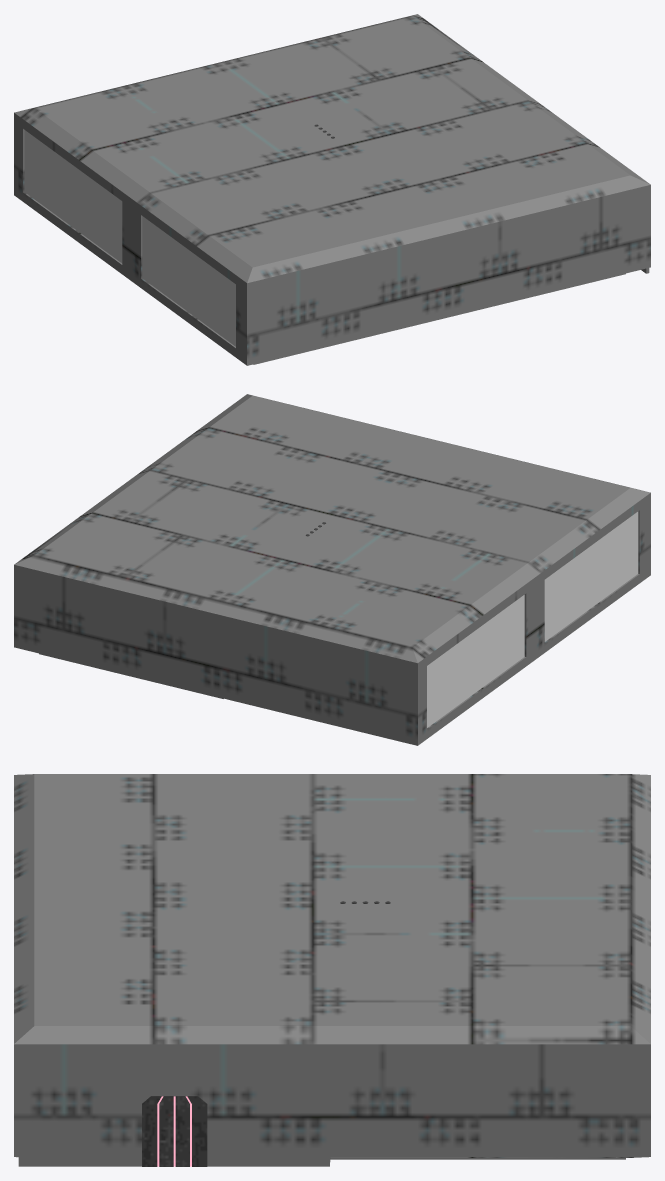
The model's file is Hub.fbx.
3 renders of one model, top to bottom at view 1: azimuth 30°, elevation 25°; view 2: azimuth 150°, elevation 25°; view 3: azimuth 270°, elevation 25°, orthographic. The views are drawn at different scales.
Visible parts, largest first — view 1: Structure; view 2: Structure; view 3: Structure, Door.object.001.
Part boxes in pixels (<box>): Structure: <box>14,14,650,365</box>; Structure: <box>14,394,650,745</box>; Structure: <box>14,774,650,1166</box>; Door.object.001: <box>142,1096,207,1166</box>.
Size of the model in its own units: 4091 by 967 by 4091.
